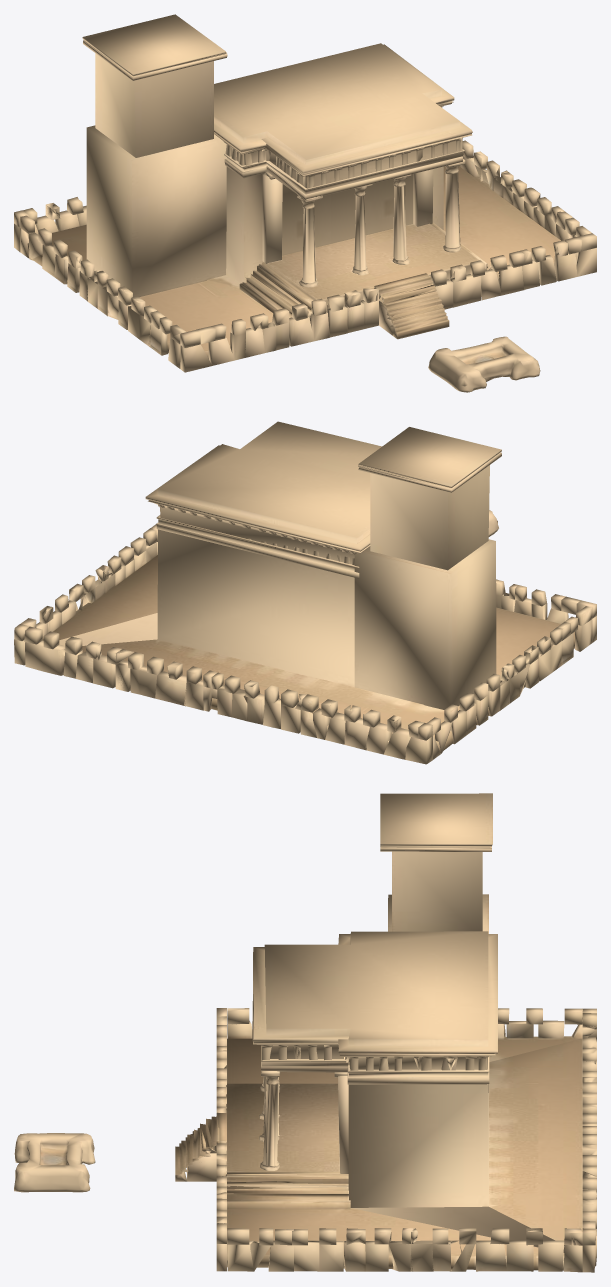
File: temple.glb
3 views of the same model, one above another, from view 1: azimuth 30°, elevation 25°; view 2: azimuth 150°, elevation 25°; view 3: azimuth 270°, elevation 25° (orthographic). The views are drawn at different scales.
Size of the model in its own units: 0.8657 by 0.4805 by 0.9502.
Materials: 1 (1 with a texture image).
